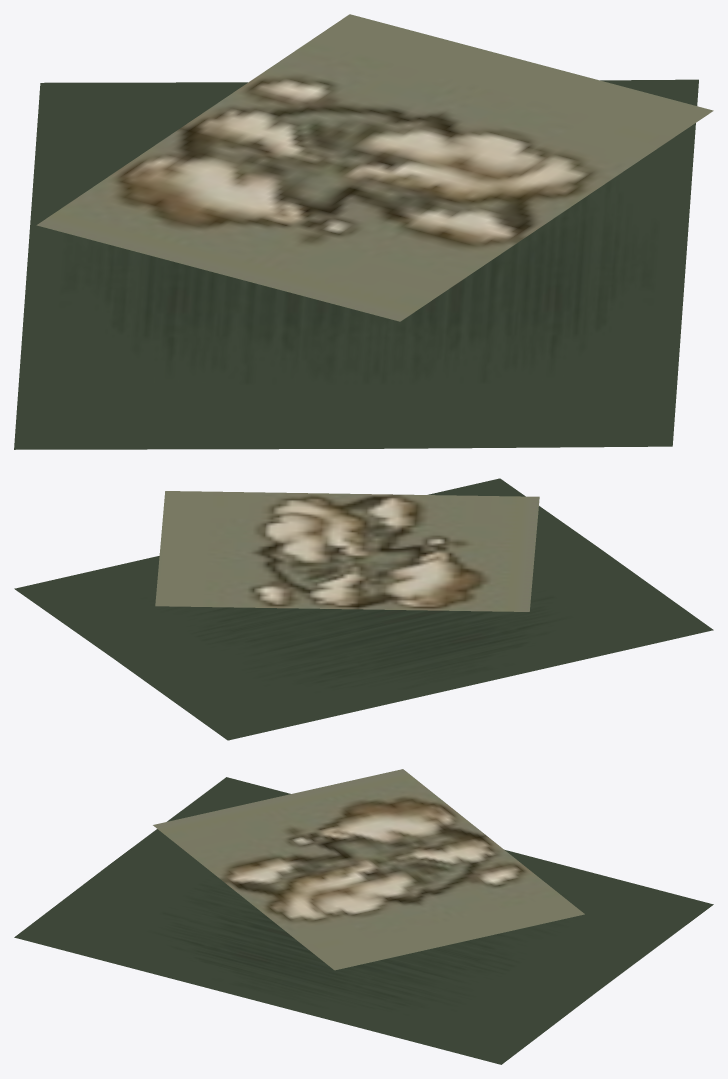
The model's file is pir_m_are_isl_mysterious_04_worldmap.fbx.
3 renders of one model, top to bottom at view 1: azimuth 30°, elevation 25°; view 2: azimuth 150°, elevation 25°; view 3: azimuth 270°, elevation 25°, orthographic. The views are drawn at different scales.
Visible parts, largest first — view 1: sketchmark, top_mesh; view 2: sketchmark, top_mesh; view 3: sketchmark, top_mesh.
Boxes of the visible parts, x1,y1,x2,y2 form: sketchmark: (14,79,698,449); top_mesh: (36,14,713,321); sketchmark: (14,478,713,740); top_mesh: (155,491,539,611); sketchmark: (14,777,713,1064); top_mesh: (153,769,584,970).
Bounding box in the file's own units: 37.18 × 3.53 × 38.24.
Materials: 1 (1 with a texture image).
